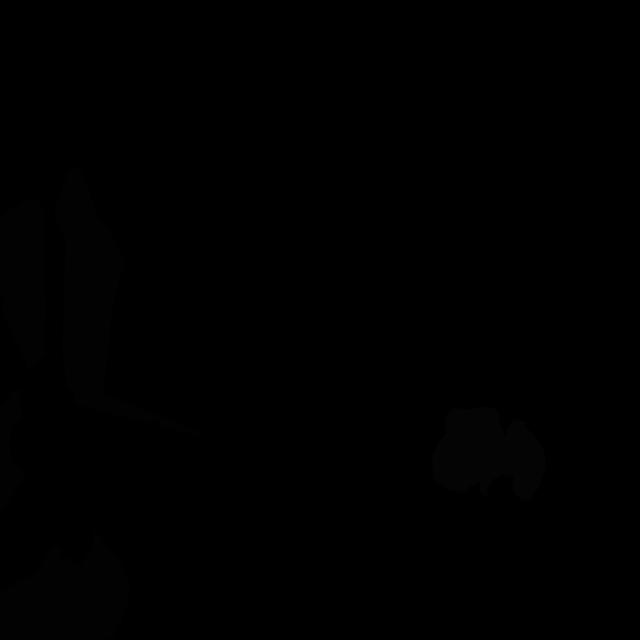cardboard: (55, 166, 203, 436), (0, 530, 130, 640), (0, 198, 48, 369), (0, 389, 26, 519)
soft_plastic: (432, 406, 546, 500)
